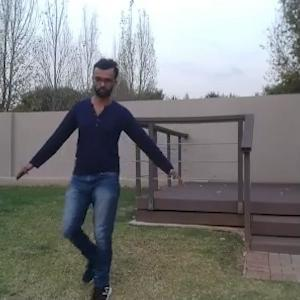land: (38, 74, 160, 284)
